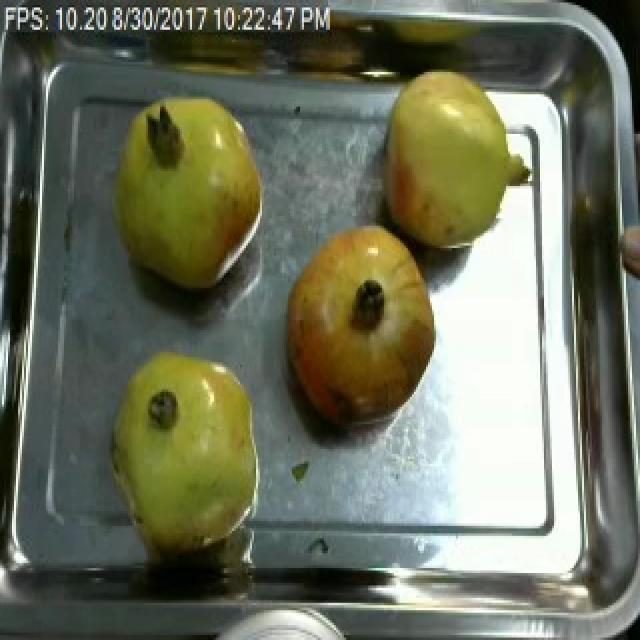fruit: (92, 327, 278, 578), (276, 208, 442, 439), (102, 87, 274, 295), (374, 59, 536, 260), (614, 201, 640, 298)
